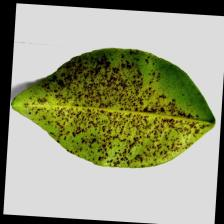canker: (74, 68, 172, 146)
